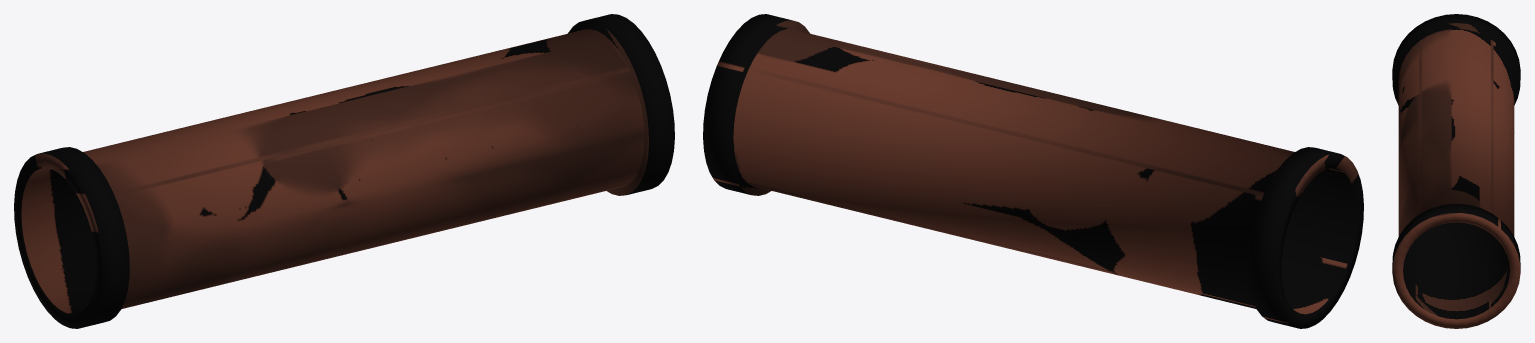
The model's file is Pipe 200mm WE.glb.
3 renders of one model, left to right at view 1: azimuth 30°, elevation 25°; view 2: azimuth 150°, elevation 25°; view 3: azimuth 270°, elevation 25°, orthographic. The views are drawn at different scales.
Parts seen in each view (by area): view 1: Pipe 200mm WE; view 2: Pipe 200mm WE; view 3: Pipe 200mm WE.
Boxes of the visible parts, x1=… form: Pipe 200mm WE: x1=14, y1=14, x2=674, y2=328; Pipe 200mm WE: x1=703, y1=14, x2=1363, y2=328; Pipe 200mm WE: x1=1392, y1=14, x2=1520, y2=328.
Bounding box in the file's own units: 15.65 × 4.27 × 4.26.
Materials: 1 (1 with a texture image).
